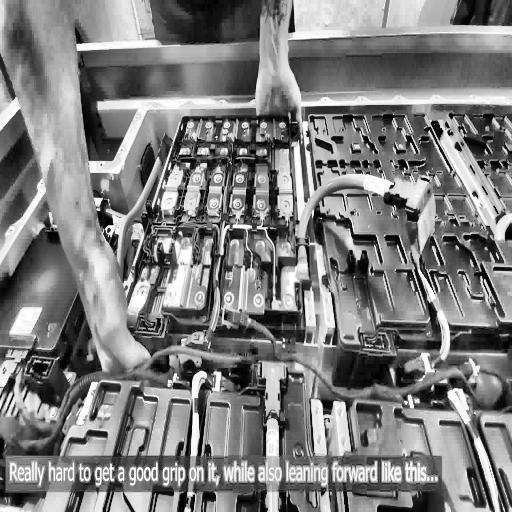high_volt_cable: (294, 168, 435, 290), (96, 128, 173, 294)
low_volt_cable: (7, 342, 482, 459)
nut: (49, 405, 56, 418), (66, 370, 72, 381)
